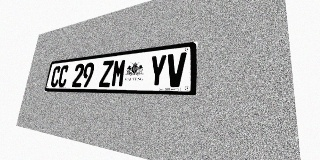2: (72, 63, 85, 87)
9: (81, 62, 95, 87)
C: (57, 65, 69, 87), (50, 66, 61, 87)
M: (110, 59, 127, 87)
V: (166, 52, 187, 87)
Y: (148, 54, 167, 87)
Z: (98, 60, 114, 87)
